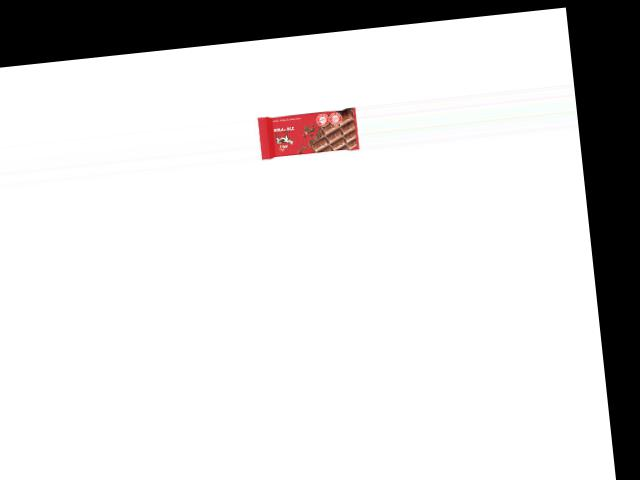chocolate: (255, 106, 359, 159)
